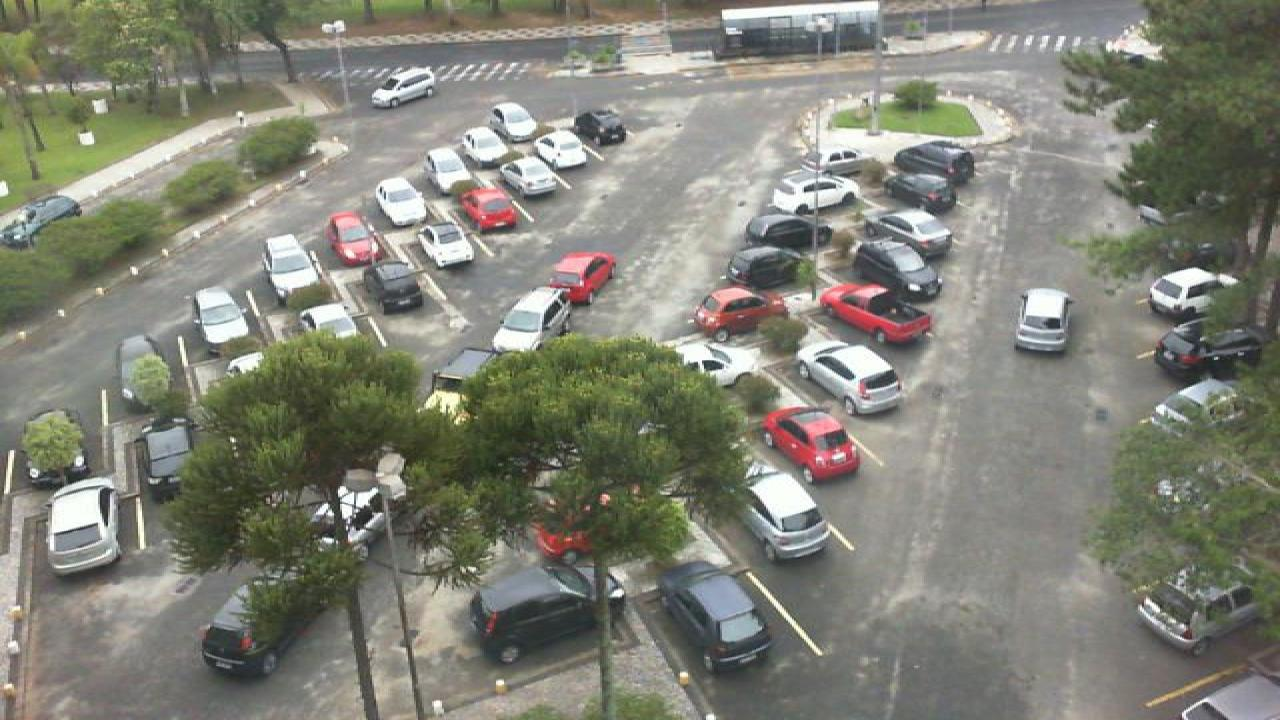Car: (468, 566, 630, 651), (658, 557, 776, 673), (1134, 571, 1264, 656), (198, 575, 302, 678), (738, 463, 832, 560), (44, 474, 126, 576), (796, 342, 904, 417), (762, 404, 862, 484), (816, 282, 938, 346), (1154, 320, 1264, 382), (1146, 378, 1246, 439), (488, 286, 576, 353), (694, 285, 796, 342), (856, 238, 944, 302), (1146, 266, 1242, 322), (140, 414, 204, 497), (724, 244, 826, 296), (860, 208, 958, 257), (668, 336, 752, 392), (740, 212, 842, 256), (192, 287, 252, 360), (1012, 287, 1074, 354), (768, 173, 862, 217), (546, 251, 618, 306), (892, 140, 978, 185), (114, 333, 164, 407), (882, 170, 960, 215), (264, 234, 320, 296), (430, 348, 502, 396), (414, 221, 478, 274), (362, 262, 424, 315), (330, 210, 382, 268), (458, 187, 520, 233), (374, 176, 428, 228), (422, 147, 474, 197), (498, 158, 558, 200), (794, 146, 870, 179), (534, 131, 592, 172), (572, 107, 628, 148), (488, 102, 540, 143), (460, 126, 510, 166)
